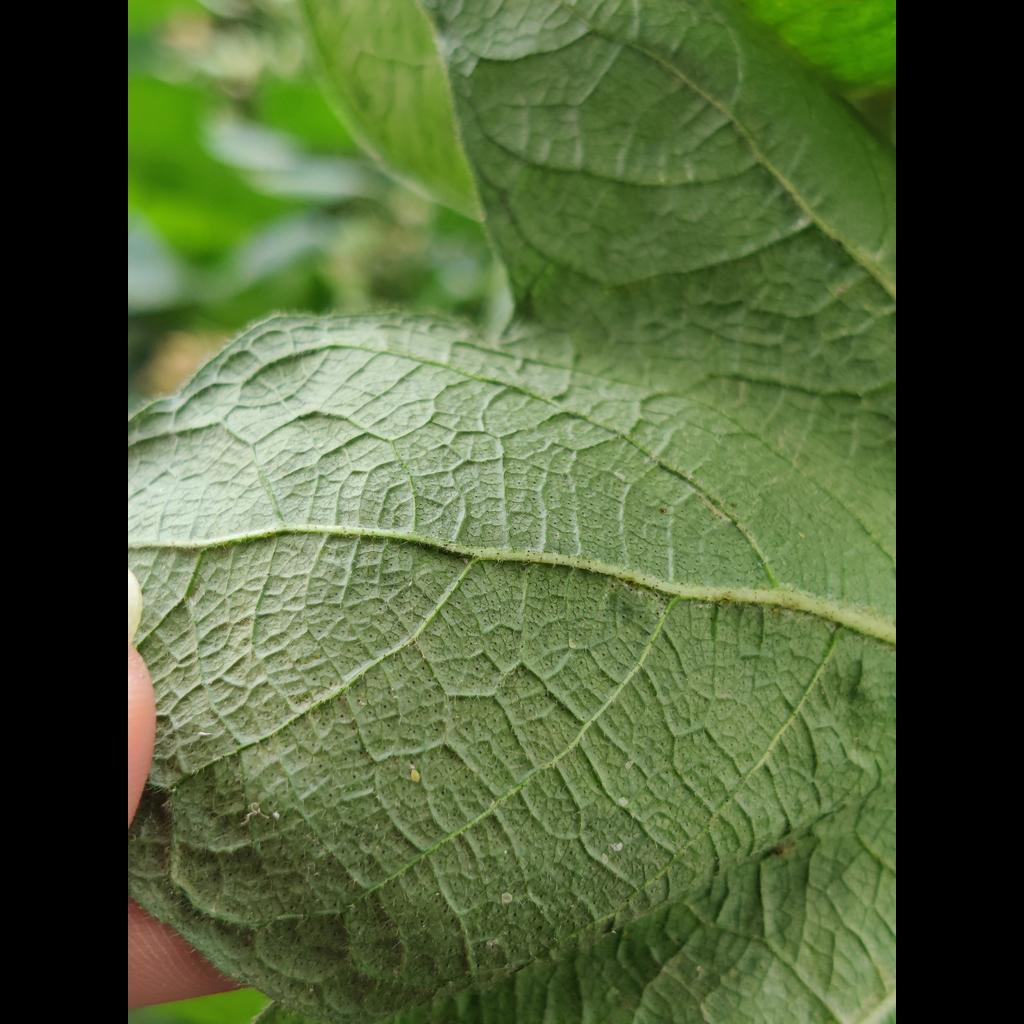nymph: (408, 768, 421, 784), (500, 893, 513, 903), (611, 842, 623, 852), (617, 797, 629, 806), (272, 810, 280, 821), (625, 761, 633, 770)
